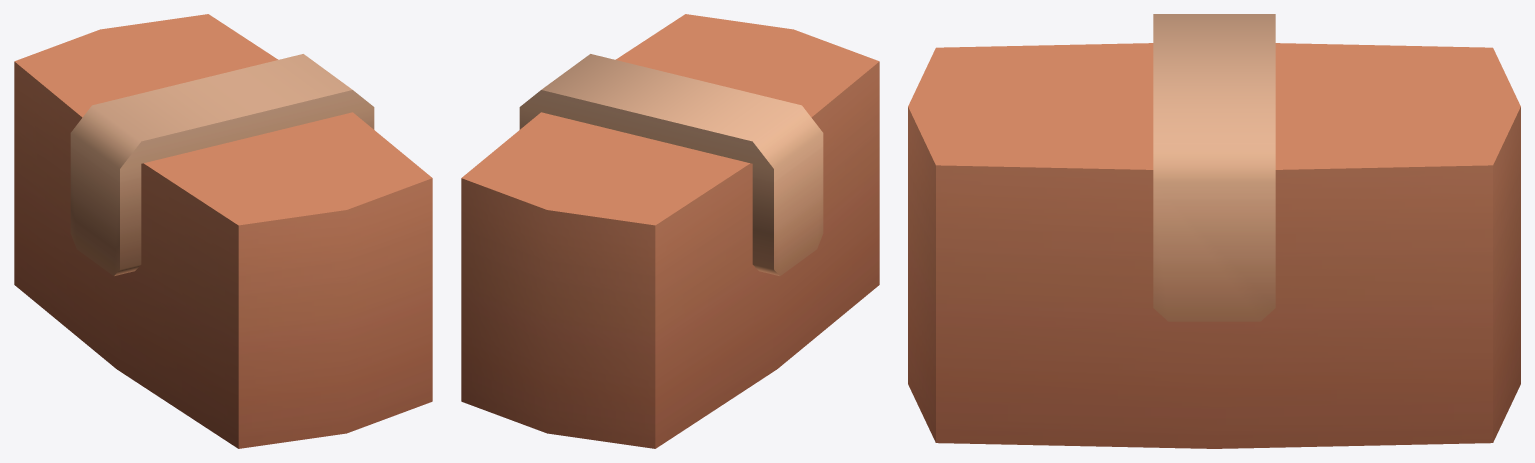
File: kenney-conveyor-box-wide.glb
The picture shows the model from 3 angles, left to right: view 1: azimuth 30°, elevation 25°; view 2: azimuth 150°, elevation 25°; view 3: azimuth 270°, elevation 25°; orthographic projection. The views are drawn at different scales.
Parts seen in each view (by area): view 1: box-wide; view 2: box-wide; view 3: box-wide.
Part boxes in pixels (bbox=[...]): box-wide: bbox=[14, 14, 432, 448]; box-wide: bbox=[461, 14, 879, 448]; box-wide: bbox=[908, 14, 1520, 448].
Bounding box in the file's own units: 0.595 × 0.55 × 1.
Materials: 1 (1 with a texture image).
